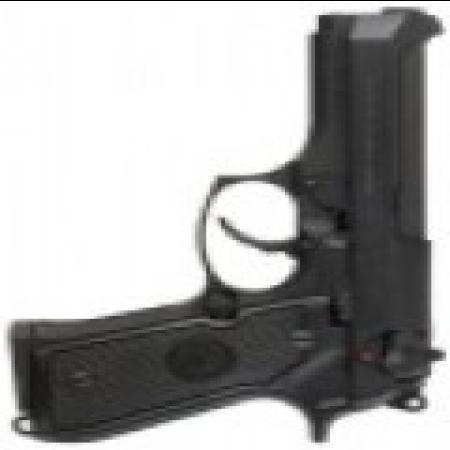Pistol: (15, 6, 446, 436)
